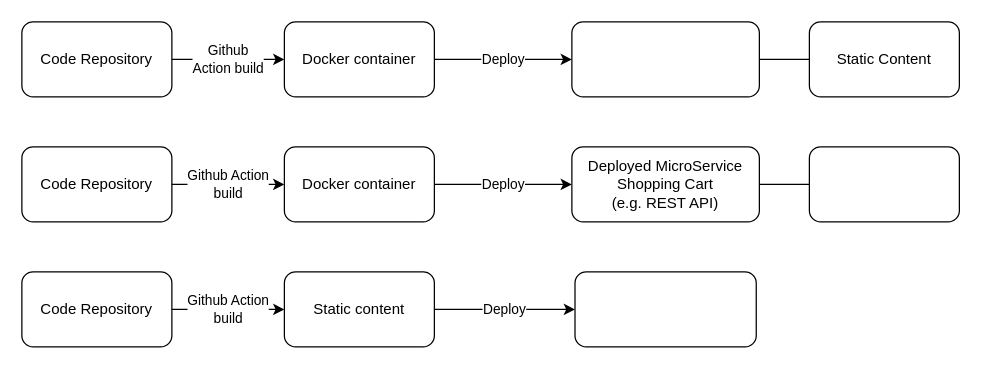
Some shapes in this 981 by 369 pixel diagram are drawn without their labels. The centre of each missing label's shape, as x and y in pixels:
Deployed MicroService Search/Content (e.g Elastic Search, REST API): the point at 665,59
Deployed Static HTML,CSS, JS Website (e.g. Netlify, Github Pages): the point at 665,309
Shopping Cart Database: the point at 883,184
